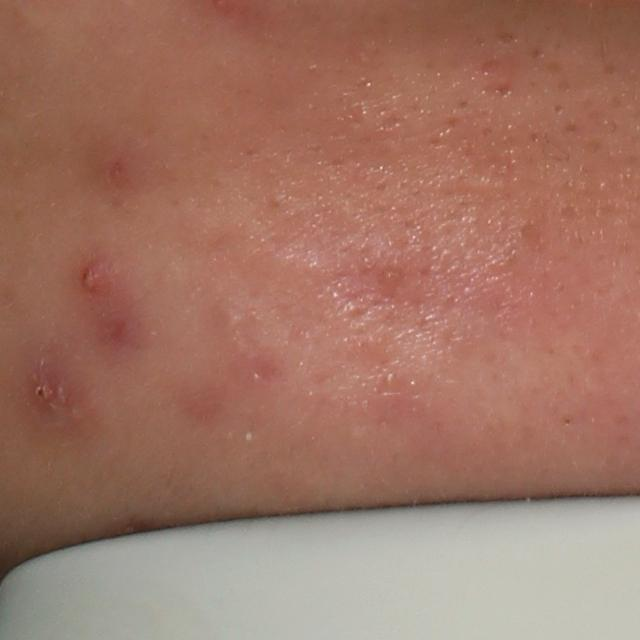comedo: (203, 291, 249, 340)
papule: (68, 249, 129, 309), (25, 363, 72, 414)
